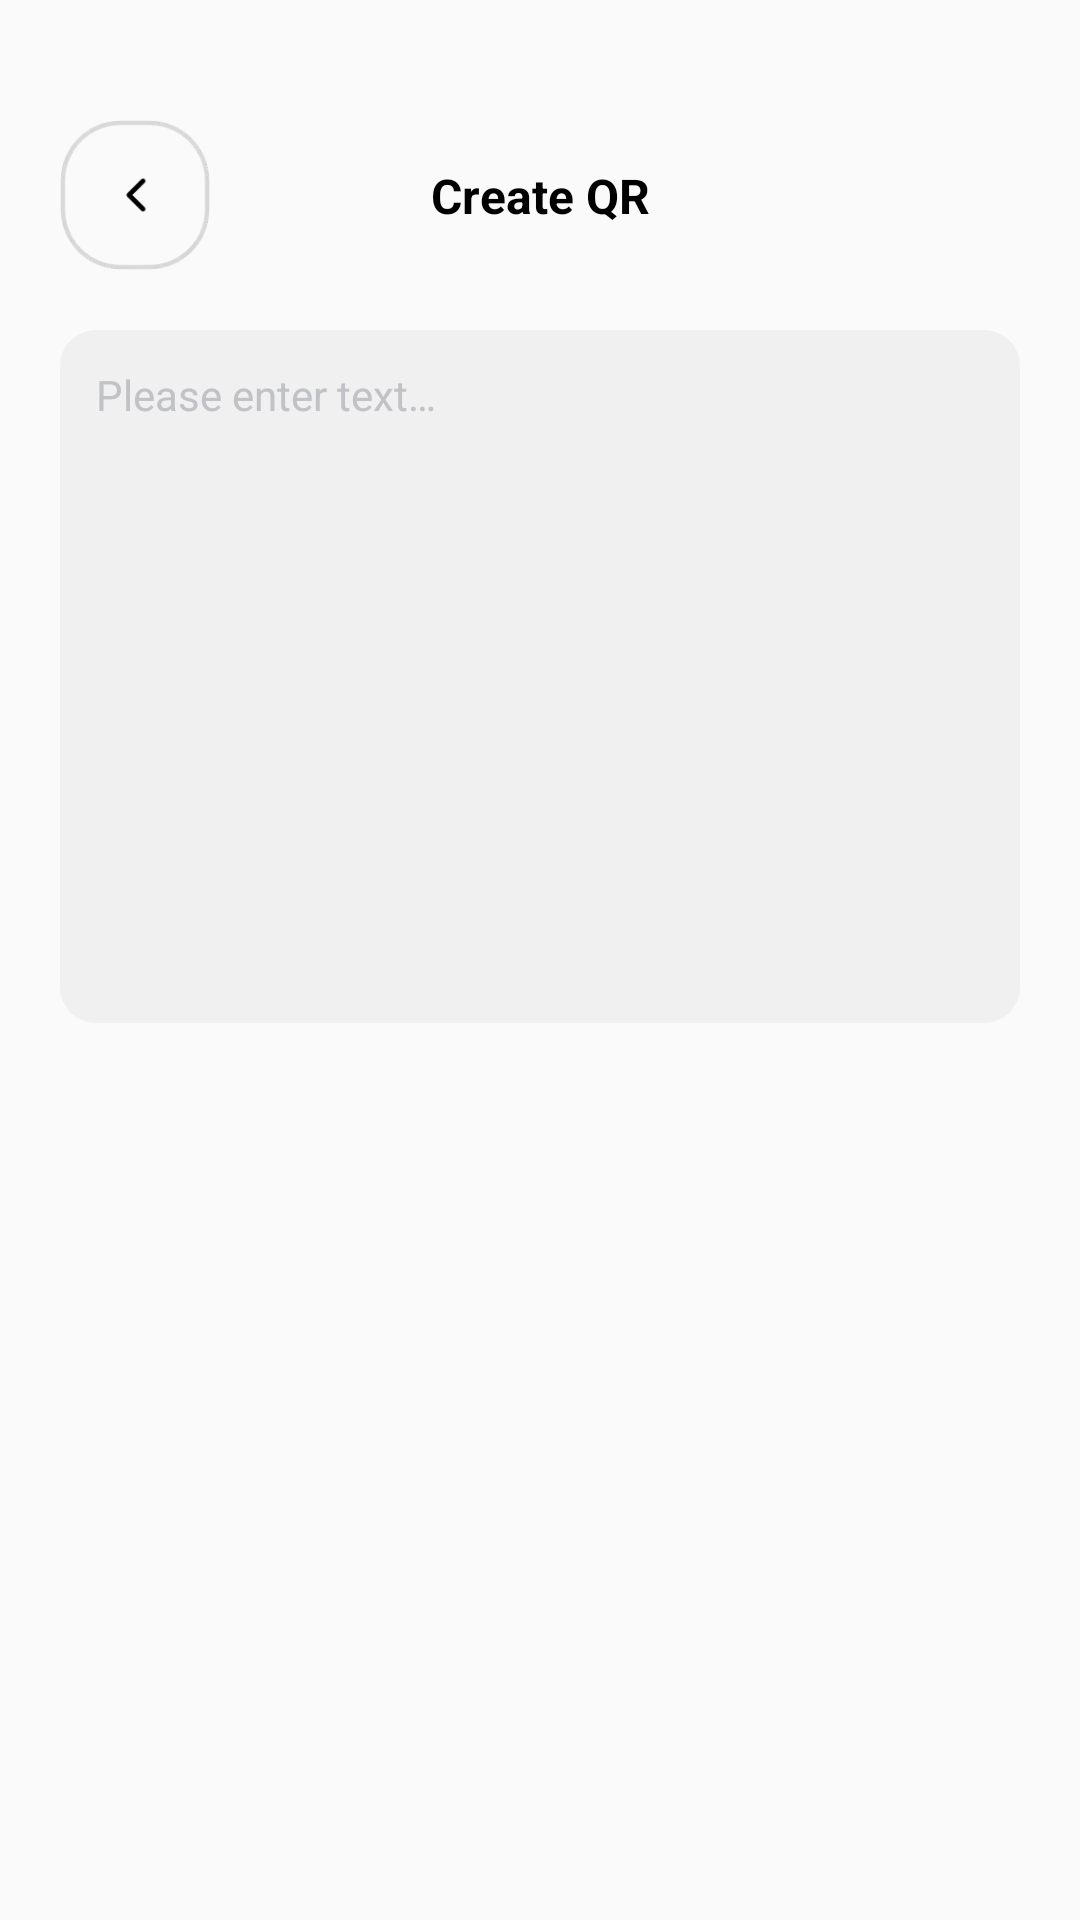

Icon bounding boxes for this 1080px×1920px phone screenshot, format bbox=(x1, y1, x2, y2):
back: bbox=(61, 121, 209, 269)
